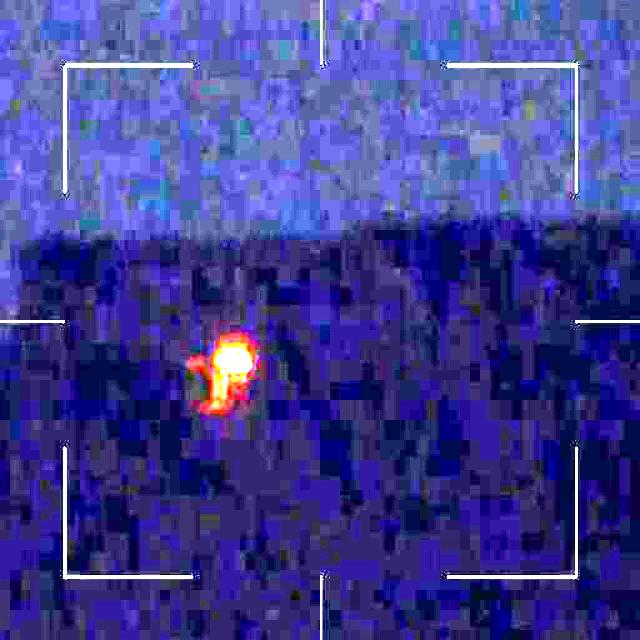bird: (168, 336, 248, 411)
